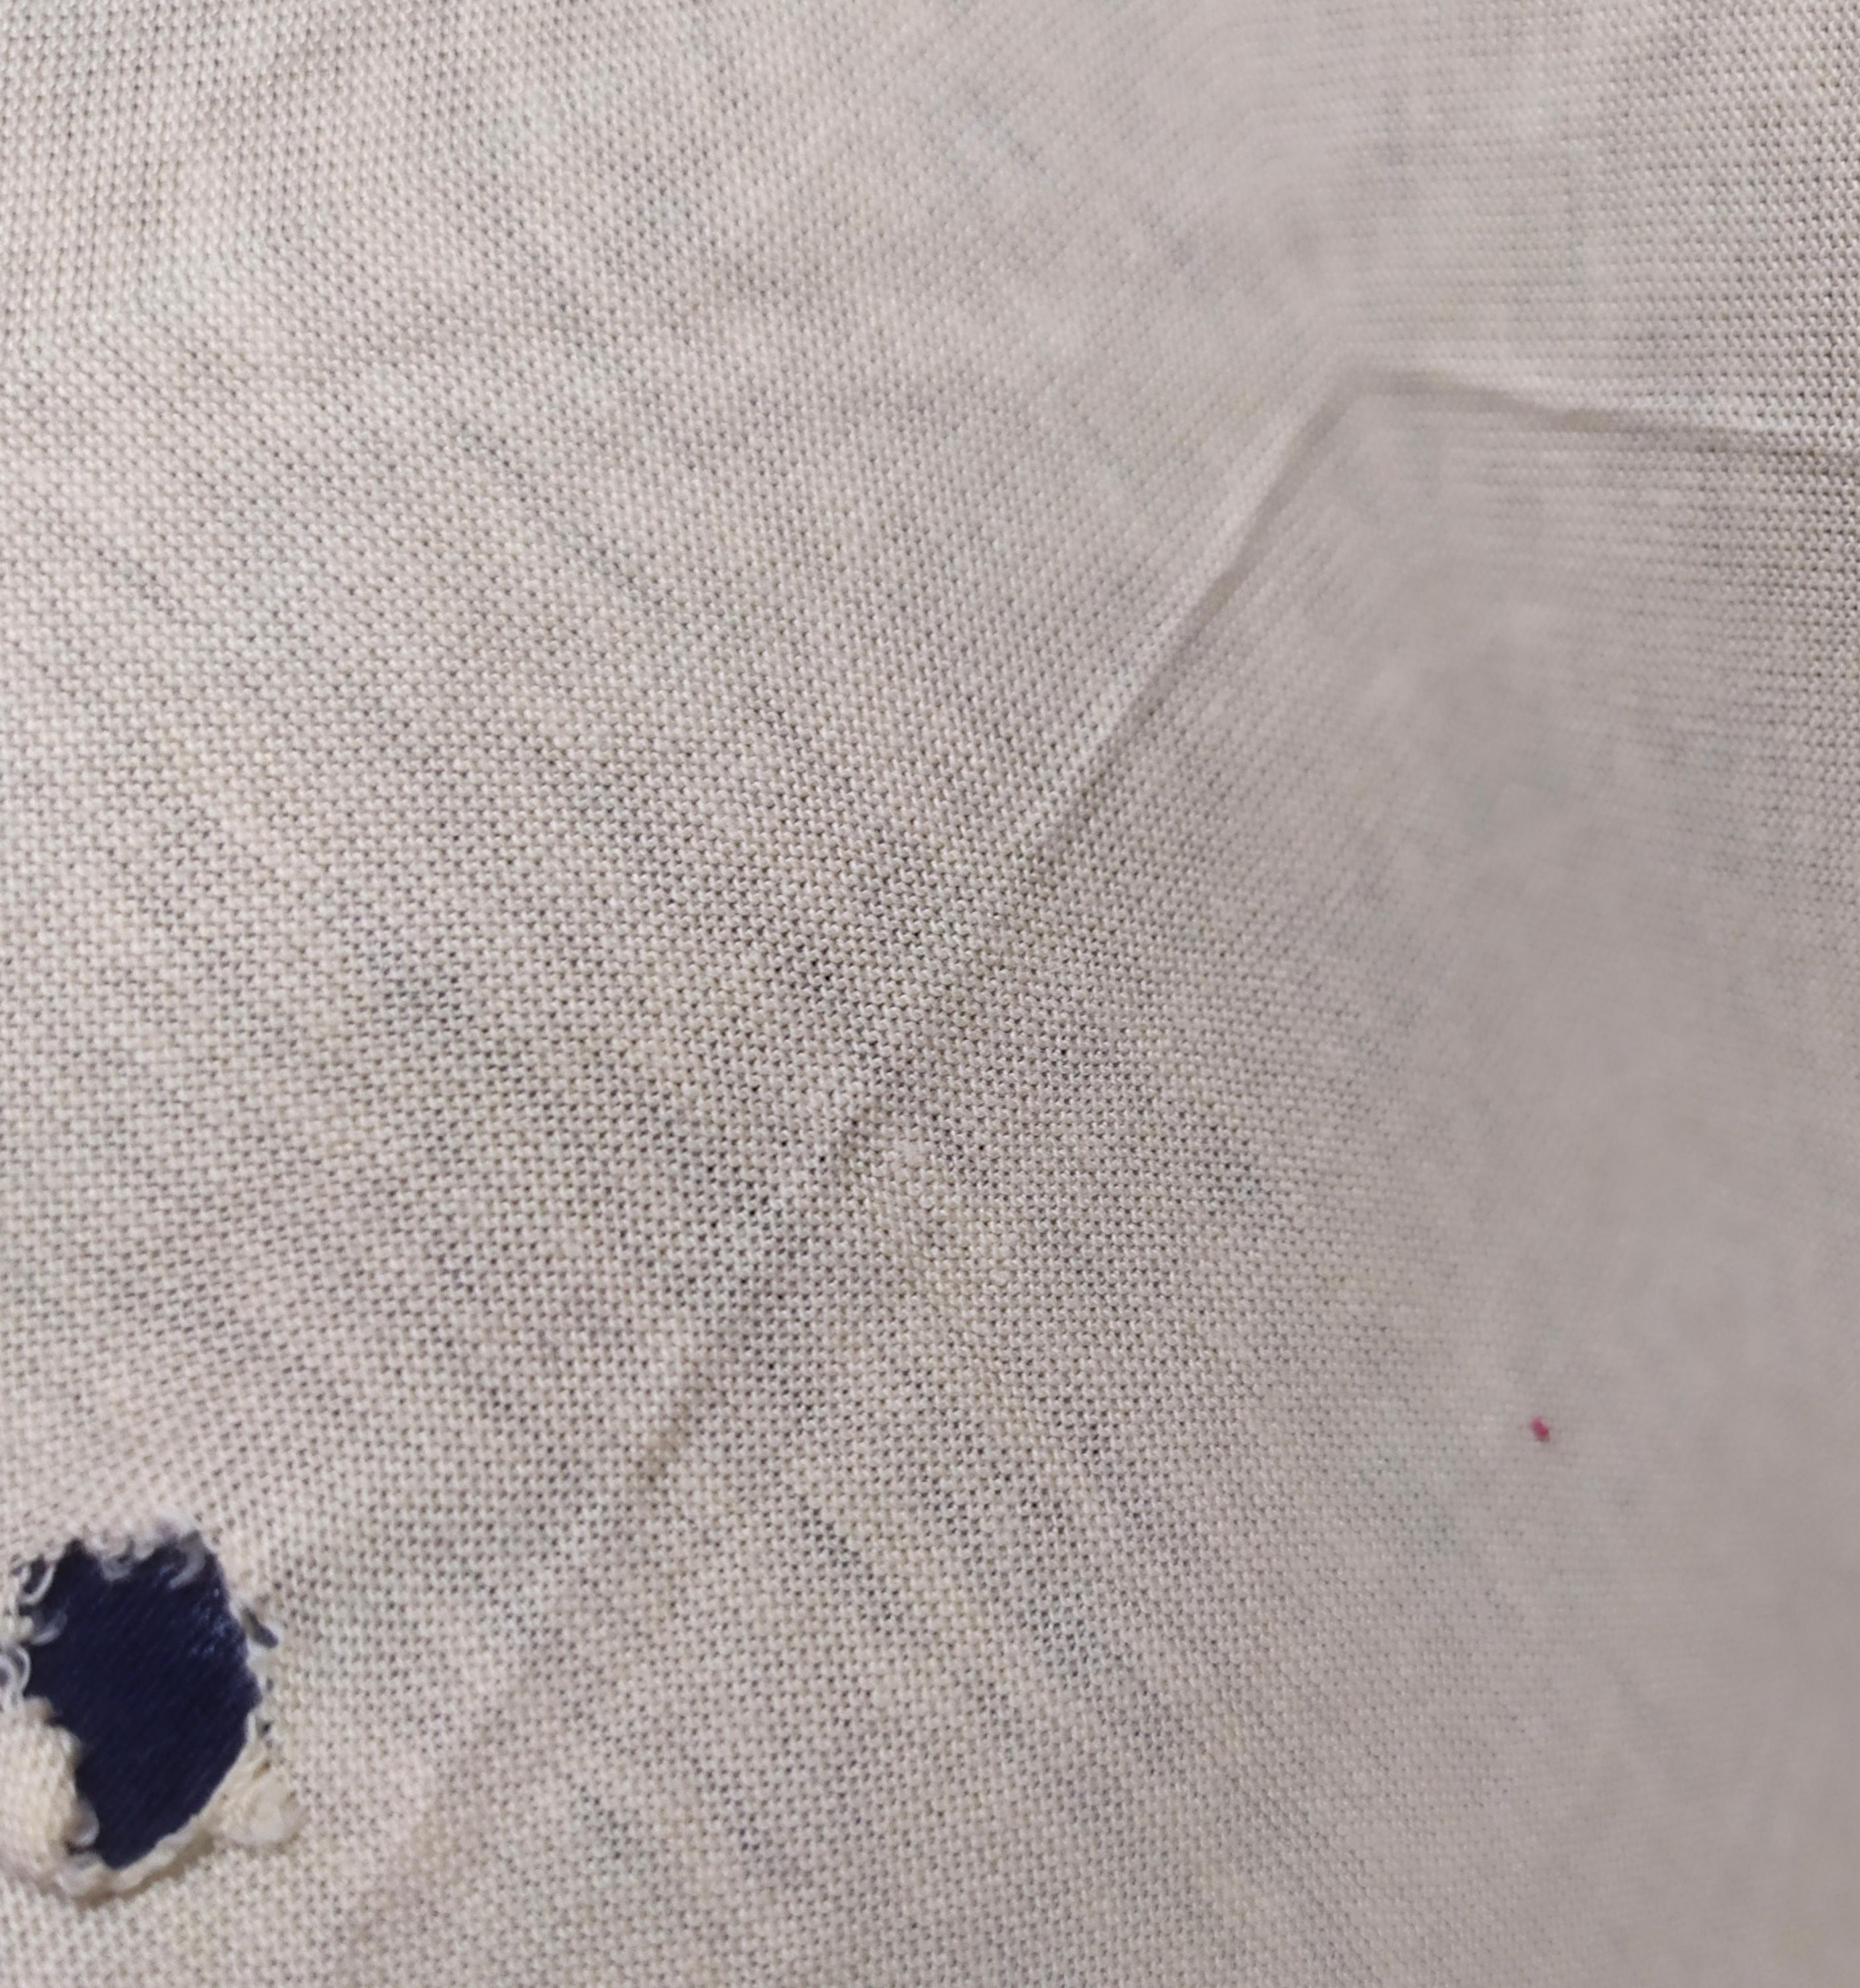hole: (14, 1519, 313, 1894)
